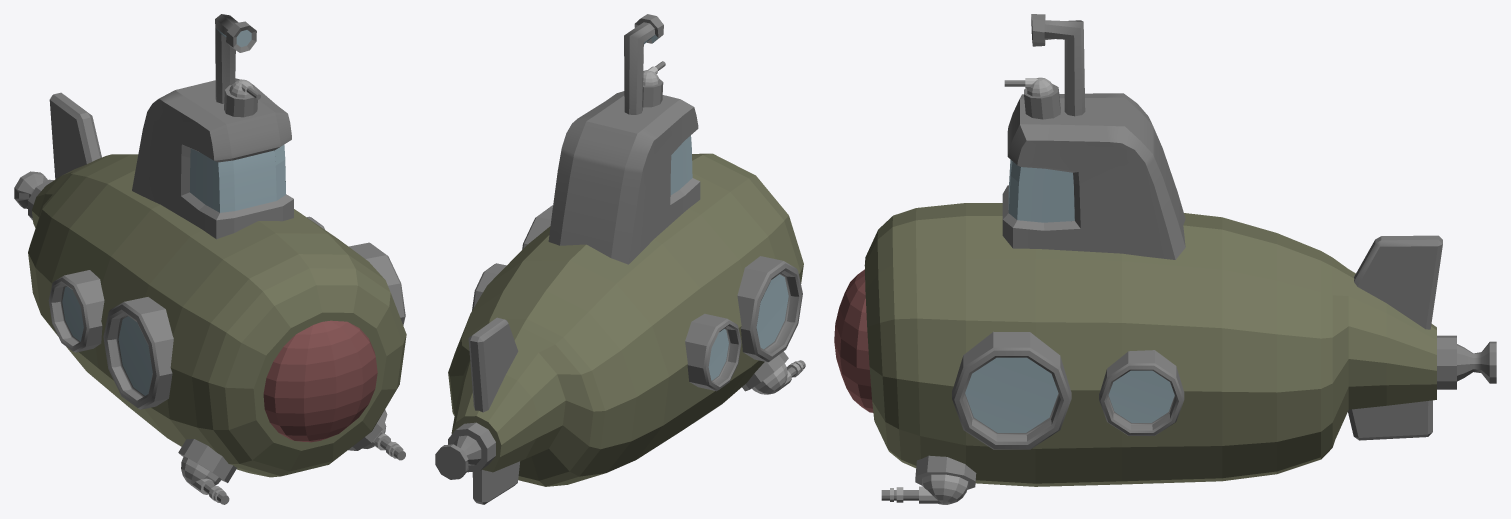
Rendered from Submarine with Gun Upgrade 1.fbx.
3 views of the same model, side by side, from view 1: azimuth 30°, elevation 25°; view 2: azimuth 150°, elevation 25°; view 3: azimuth 270°, elevation 25° (orthographic). The views are drawn at different scales.
Visible parts, largest first — view 1: Starting_Submarine, Gun_Upgrade_1; view 2: Starting_Submarine, Gun_Upgrade_1; view 3: Starting_Submarine, Gun_Upgrade_1.
Part boxes in pixels (x1,y1,x2,y2): Starting_Submarine: (14,14,406,477); Gun_Upgrade_1: (178,409,405,504); Starting_Submarine: (435,14,803,504); Gun_Upgrade_1: (742,351,805,394); Starting_Submarine: (834,14,1496,486); Gun_Upgrade_1: (881,455,976,504).
Size of the model in its own units: 4.28 by 6.77 by 8.91.
